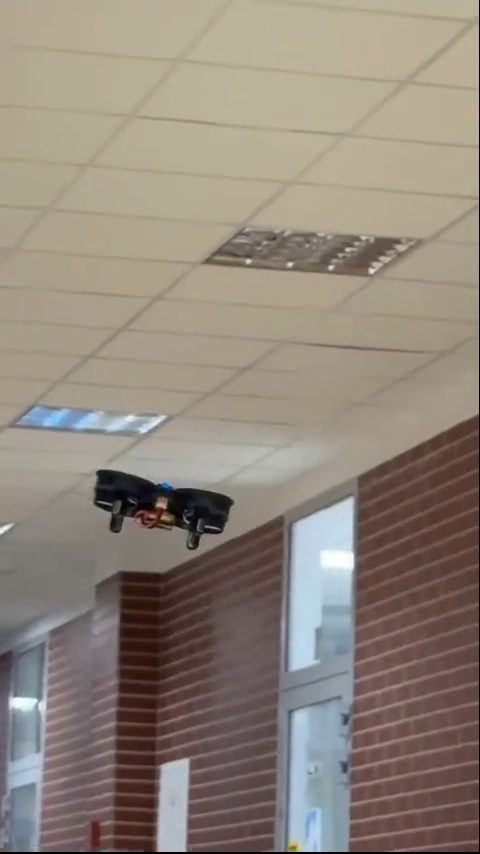drone: (89, 469, 233, 553)
